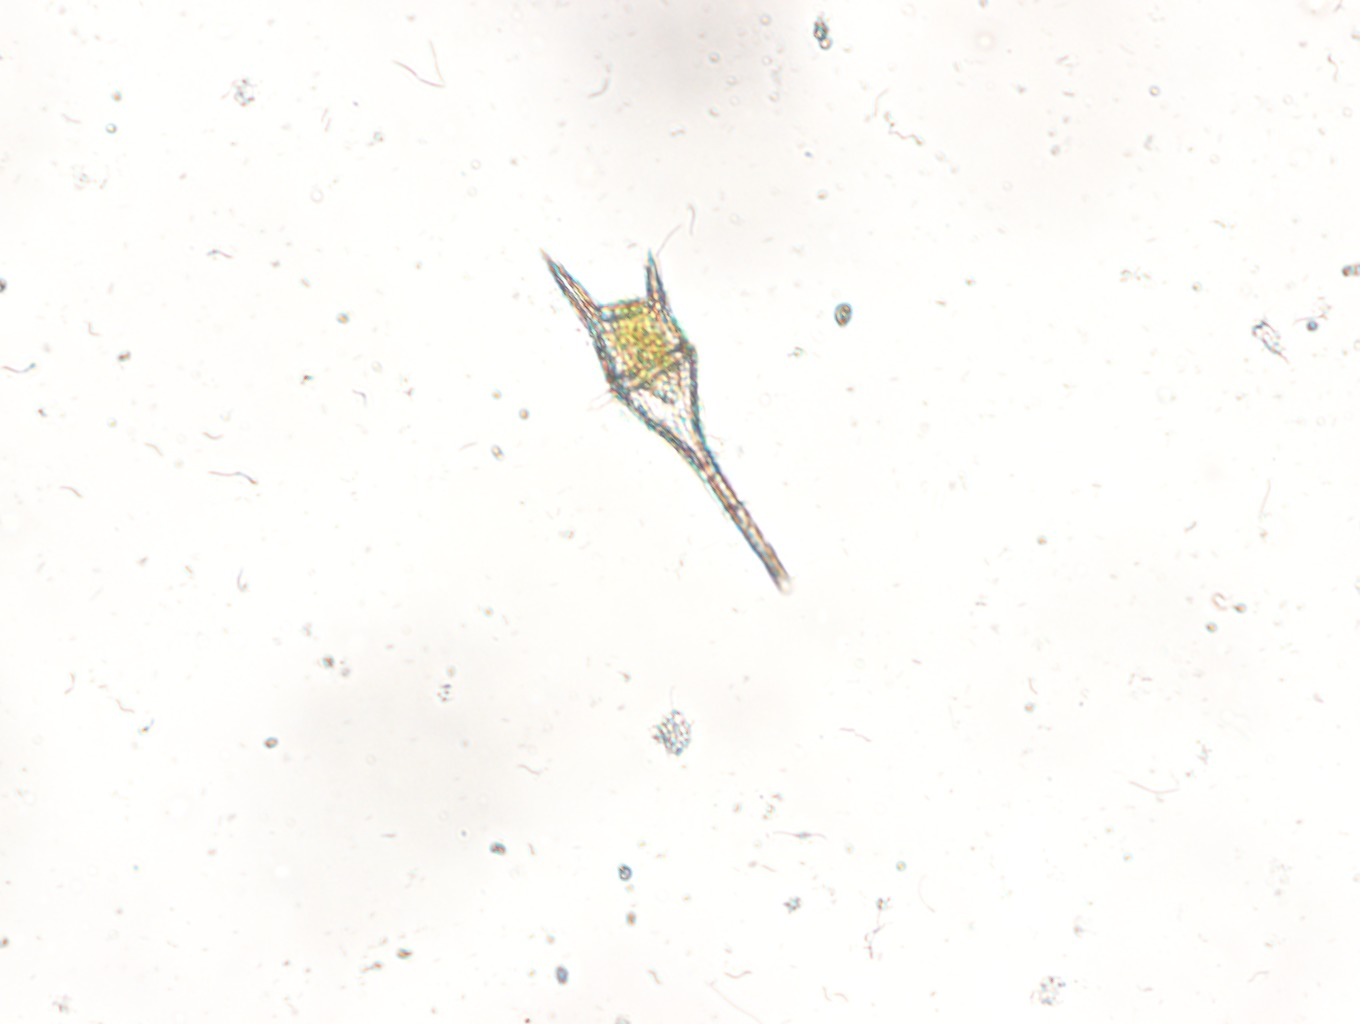ceratium furca: (536, 248, 793, 595)
